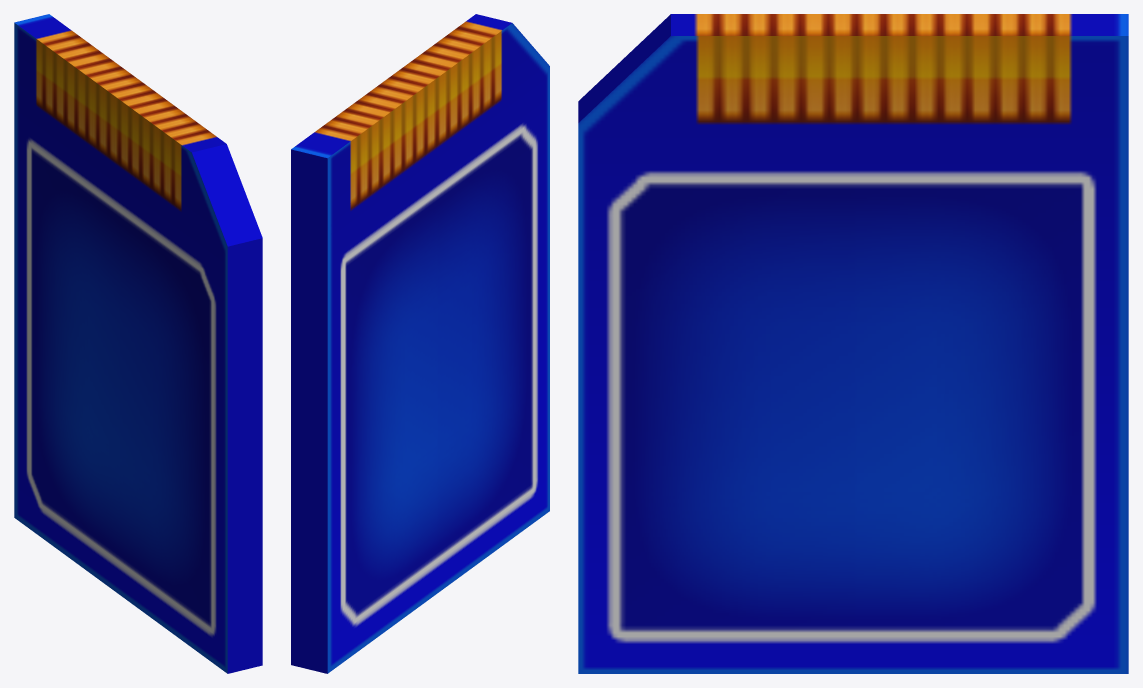
Rendered from keycard.glb.
3 renders of one model, left to right at view 1: azimuth 30°, elevation 25°; view 2: azimuth 150°, elevation 25°; view 3: azimuth 270°, elevation 25°, orthographic. The views are drawn at different scales.
Visible parts, largest first — view 1: Cube.001; view 2: Cube.001; view 3: Cube.001.
Part boxes in pixels (x1,y1,x2,y2): Cube.001: (14, 14, 262, 673); Cube.001: (291, 14, 549, 673); Cube.001: (578, 14, 1128, 673).
Size of the model in its own units: 0.1716 by 2.32 by 1.81.
1 material, 1 textured.
